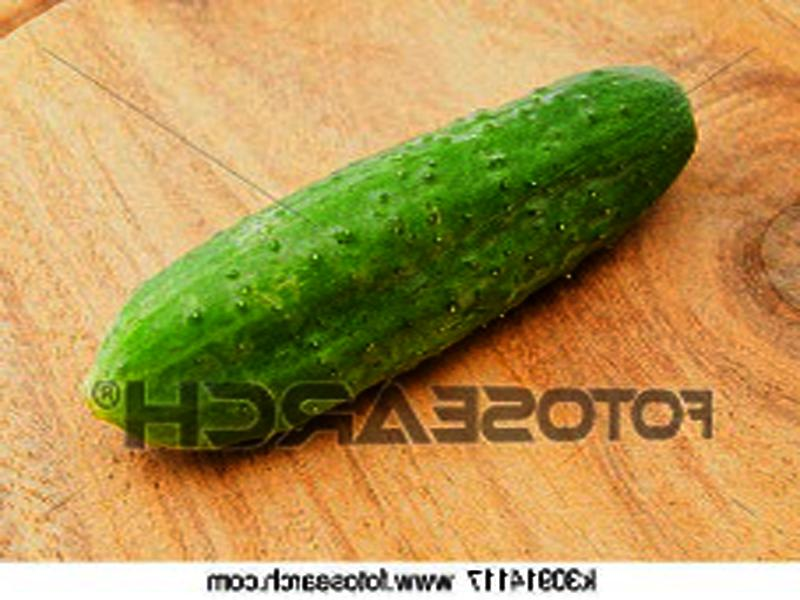Cucumber: (84, 66, 697, 455)
